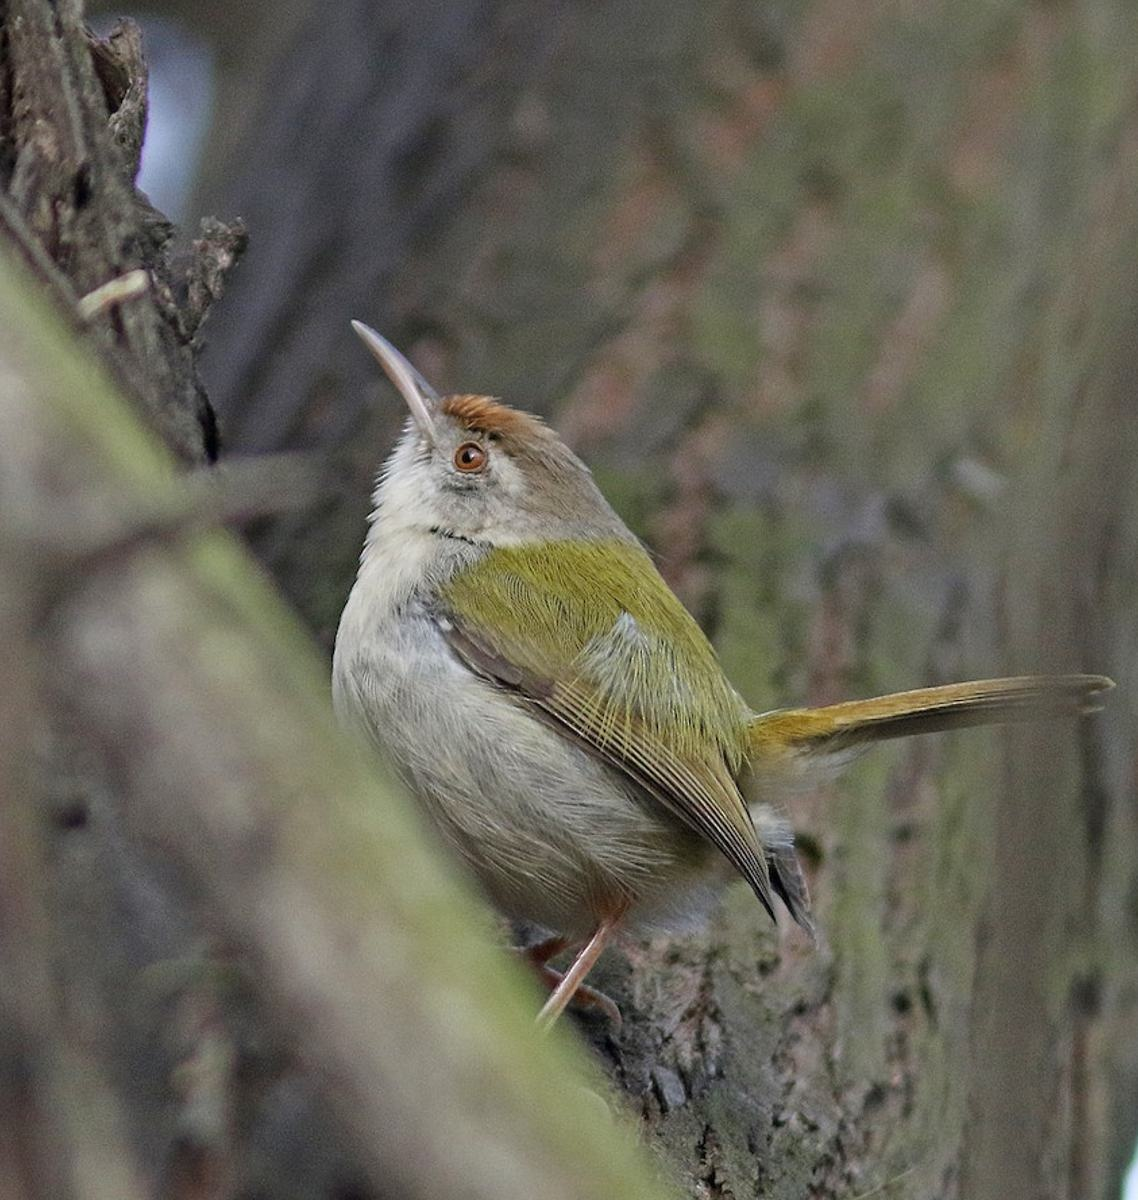tailorbird: (281, 293, 1112, 993)
